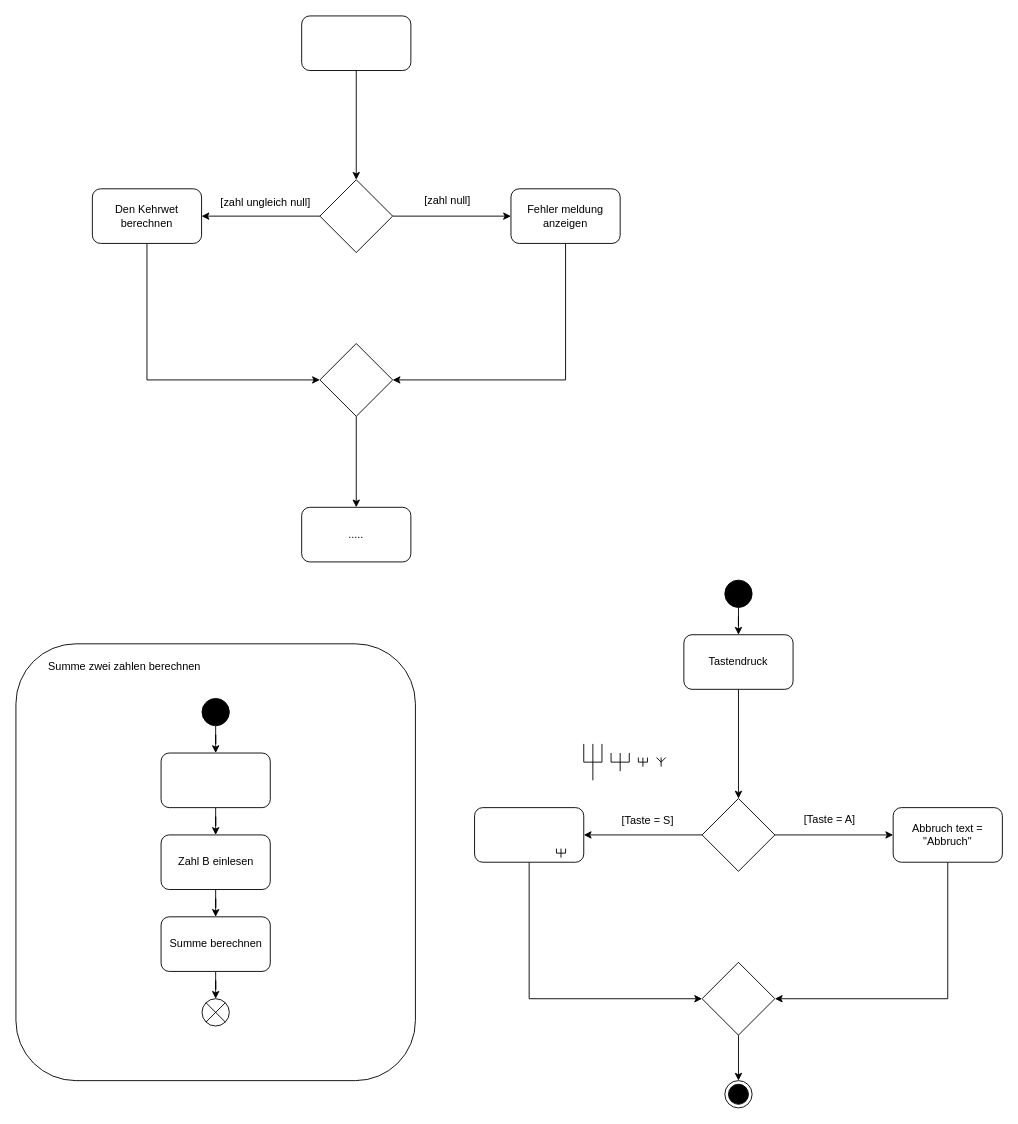
The diagram is 1018 pixels wide and 1124 high, and some of its shapes have lost their labels. The box of each missing label's shape, as (x1, y1, x2, y2) in pixels:
Summe zweier Zahlen: (474, 807, 584, 862)
Zahl A einlesen: (160, 752, 270, 808)
zahleingebn: (301, 15, 411, 71)
